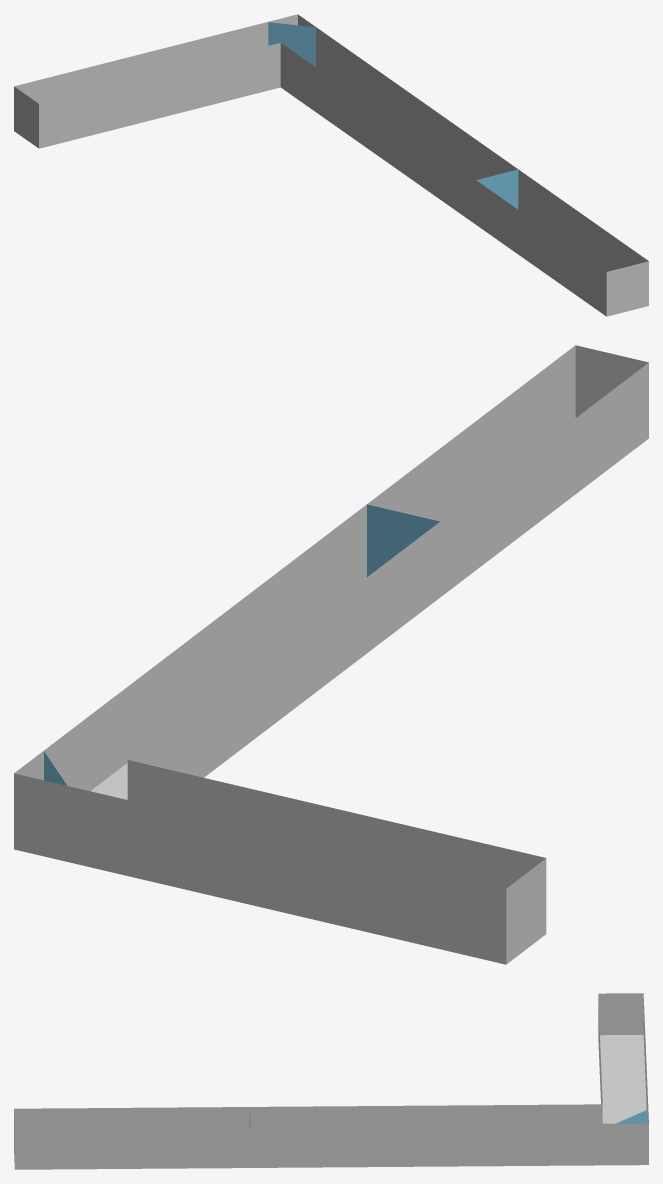
The model's file is test_chamber.glb.
3 views of the same model, one above another, from view 1: azimuth 30°, elevation 25°; view 2: azimuth 150°, elevation 25°; view 3: azimuth 270°, elevation 25° (orthographic). The views are drawn at different scales.
Parts seen in each view (by area): view 1: Chamber, Test Material; view 2: Chamber, Test Material; view 3: Chamber, Test Material.
Boxes of the visible parts, x1,y1,x2,y2 form: Chamber: [14, 14, 648, 316]; Test Material: [268, 22, 518, 209]; Chamber: [14, 345, 648, 964]; Test Material: [44, 504, 439, 785]; Chamber: [14, 993, 648, 1169]; Test Material: [249, 1109, 647, 1126].
Size of the model in its own units: 13.89 by 2 by 27.63.
